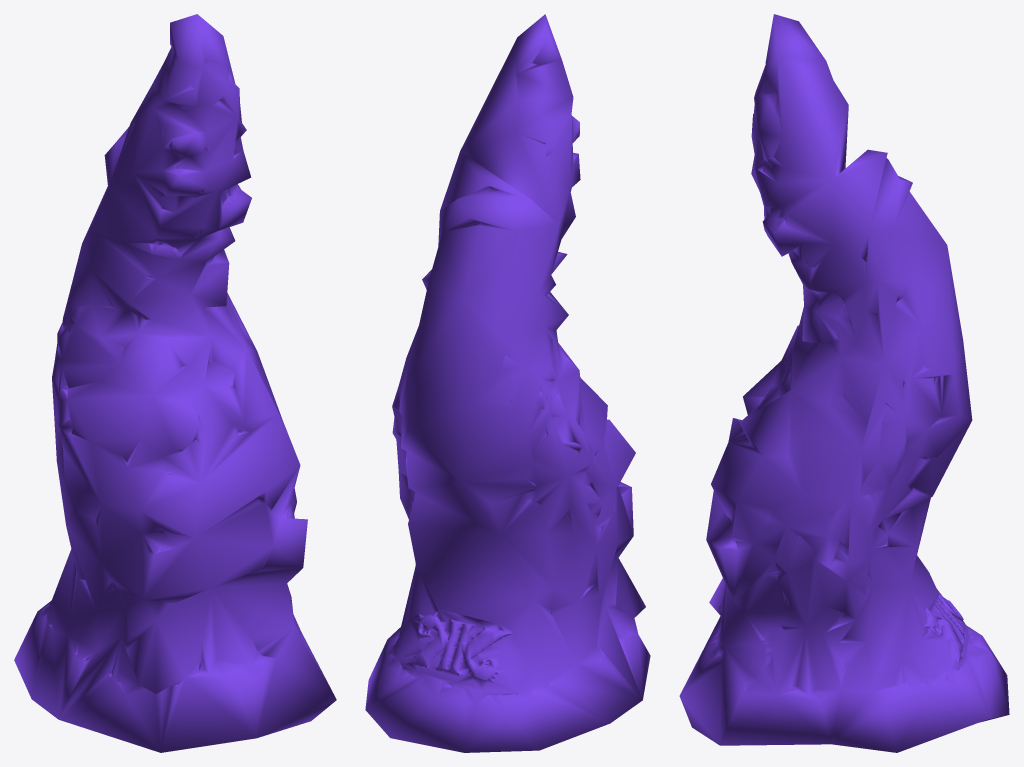
File: large-machine-ar.glb
The picture shows the model from 3 angles, left to right: view 1: azimuth 30°, elevation 25°; view 2: azimuth 150°, elevation 25°; view 3: azimuth 270°, elevation 25°; orthographic projection. The views are drawn at different scales.
Size of the model in its own units: 0.1088 by 0.2896 by 0.1274.
